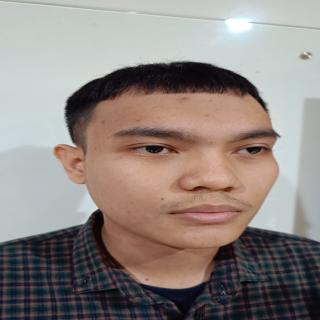Netral: (82, 85, 282, 257)
